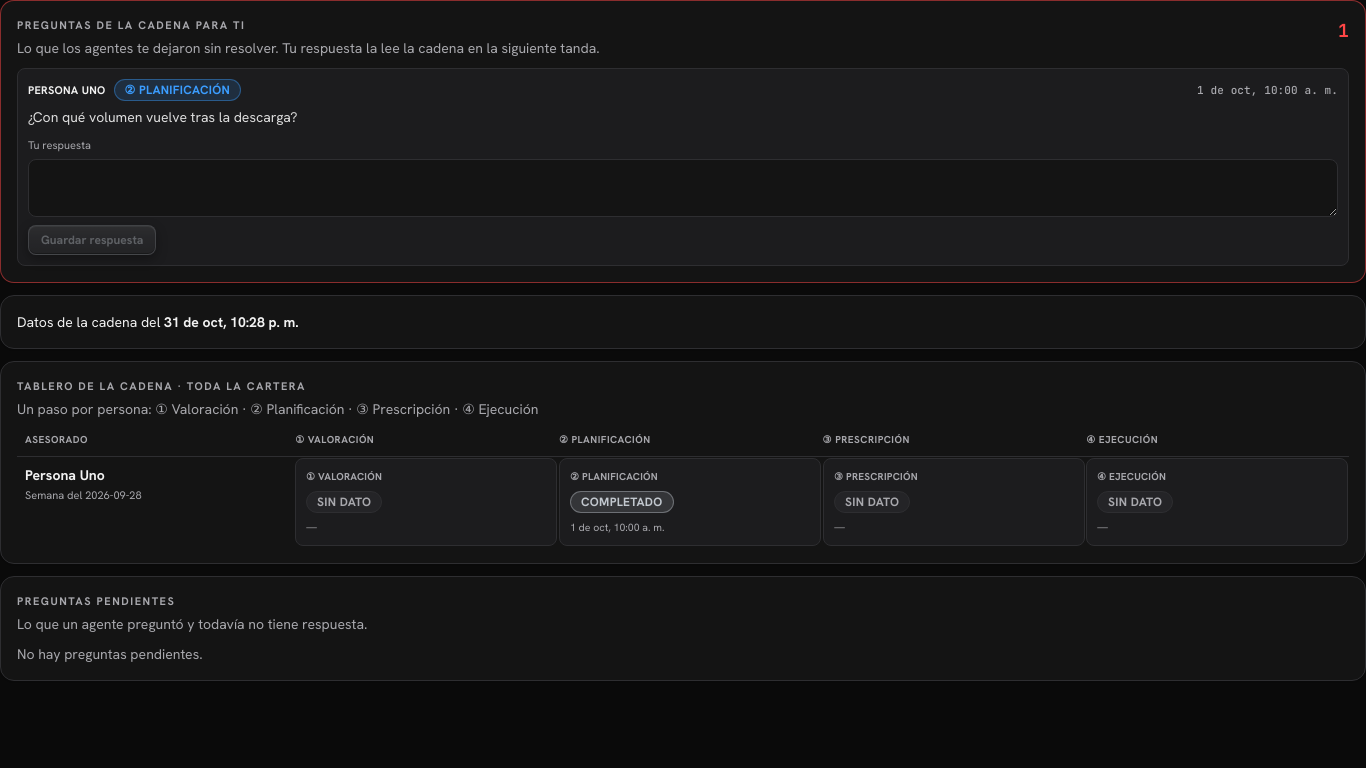
Test case: AgentesTab · preguntas de la cadena para el coach › responder guarda por la RPC y la pregunta pasa a respondidas
Step 1. Type "30 series" into the text box labelled "Tu respuesta" → (683, 188), box top-left (28, 159), bottom-right (1338, 217)
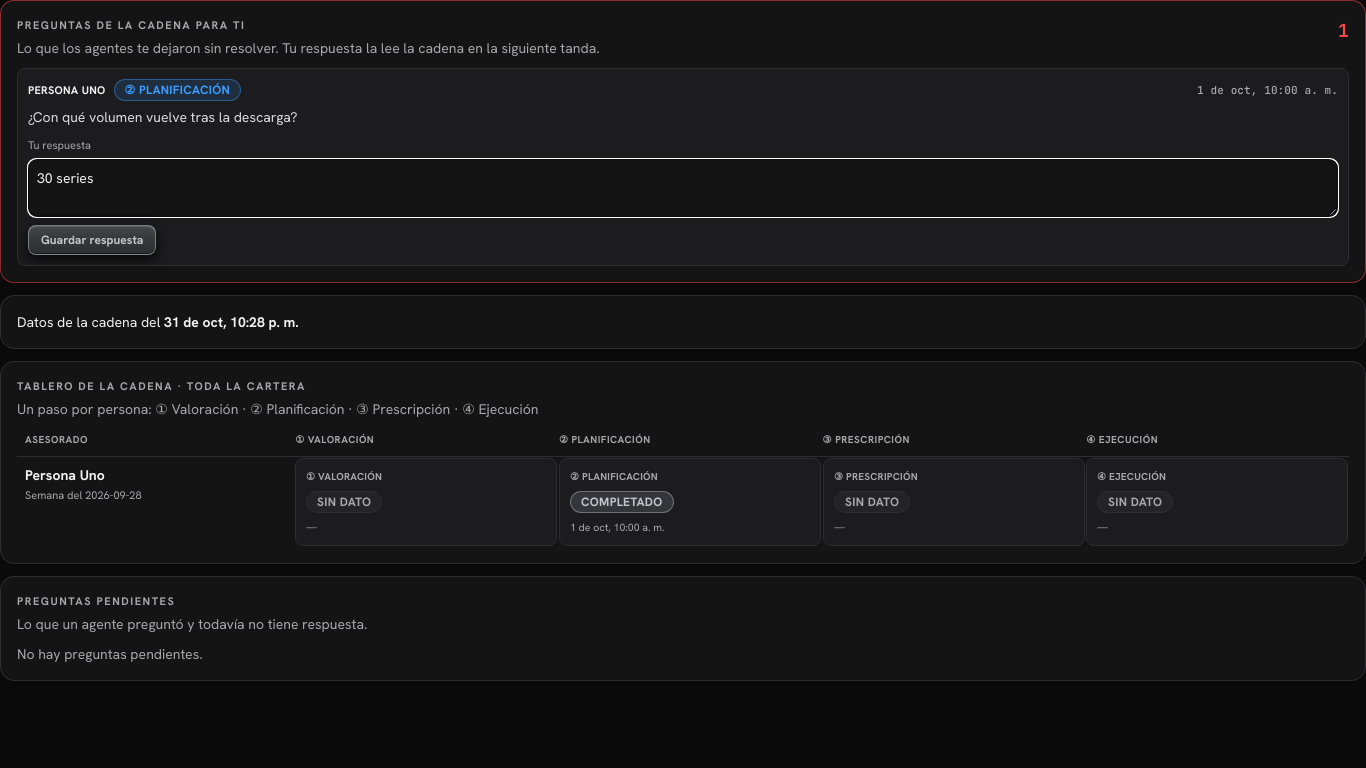
Step 2. Click the button with aria-label "Guardar la respuesta" → (92, 240), box top-left (28, 225), bottom-right (156, 255)
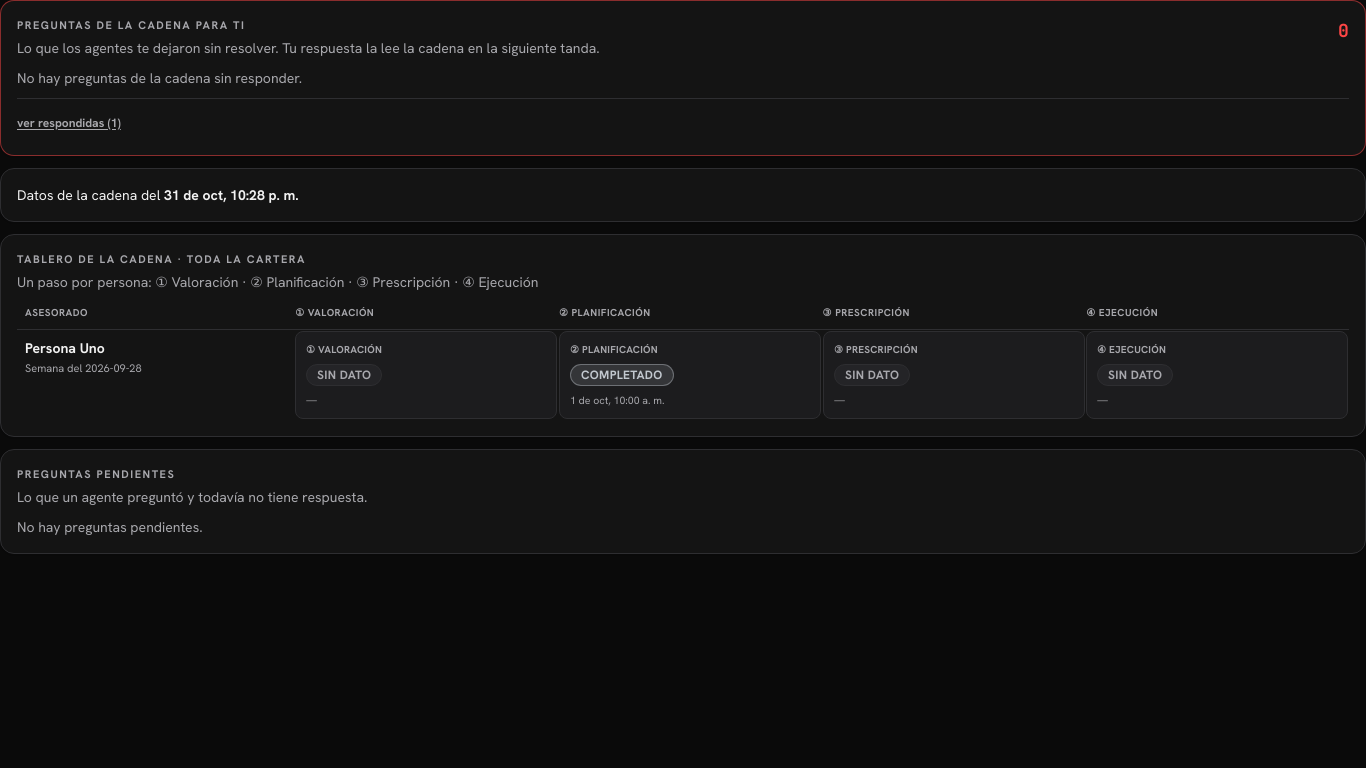
Check: the button "ver respondidas (1)" is shown, box top-left (17, 107), bottom-right (121, 139)
Check: the text named "0 sin responder" is shown, box top-left (1338, 17), bottom-right (1349, 45)
